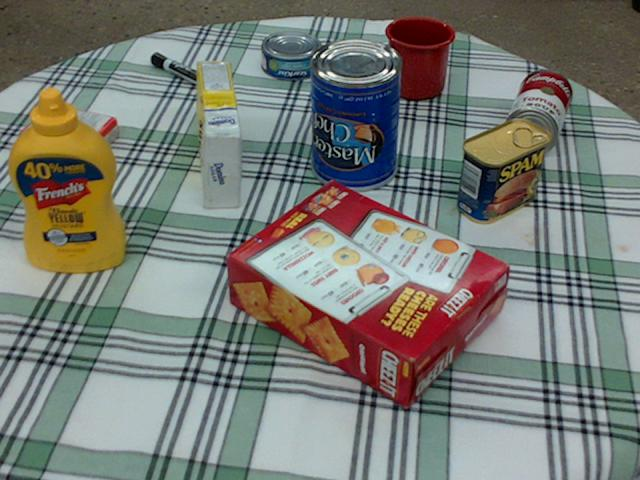cracker_box: (226, 180, 508, 407)
gelatin_box: (20, 105, 117, 165)
large_marker: (151, 52, 219, 91)
master_chef_can: (308, 38, 402, 190)
mug: (386, 17, 456, 99)
mustard_bottle: (8, 87, 125, 270)
potted_meat_can: (456, 119, 548, 223)
sugar_box: (195, 61, 239, 207)
tomato_soup_can: (503, 70, 572, 154)
tuna_fish_can: (261, 30, 322, 79)
